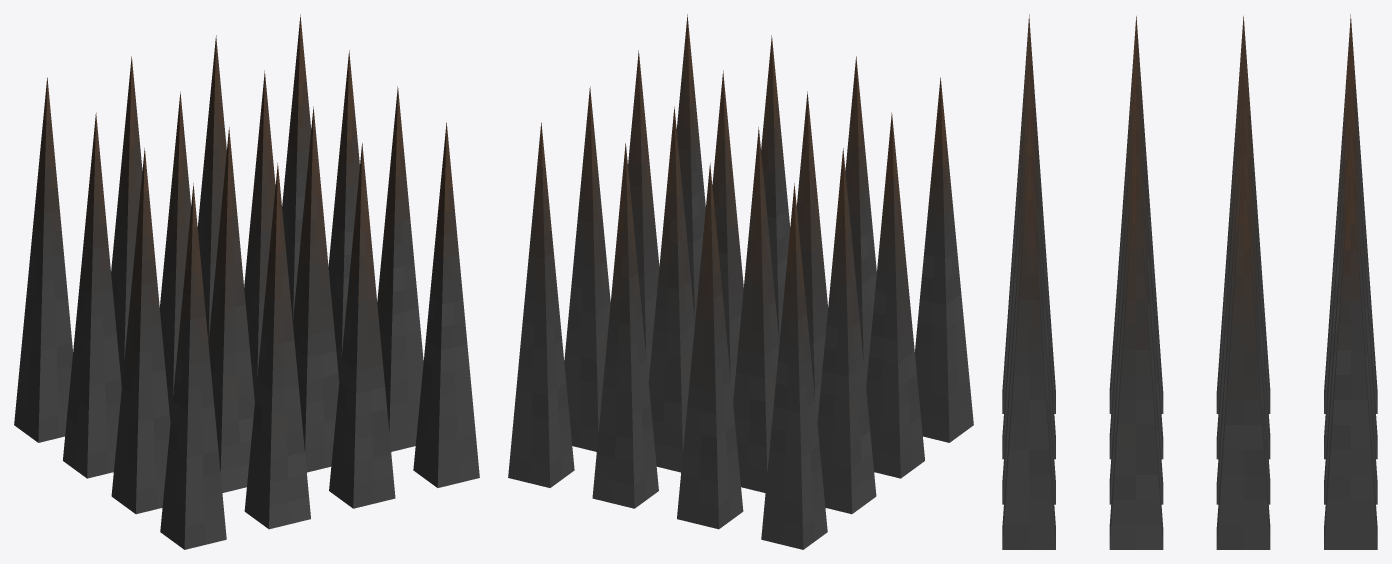
The model's file is spikes.obj.
3 renders of one model, left to right at view 1: azimuth 30°, elevation 25°; view 2: azimuth 150°, elevation 25°; view 3: azimuth 270°, elevation 25°, orthographic. The views are drawn at different scales.
Parts seen in each view (by area): view 1: Cube_Cube.001; view 2: Cube_Cube.001; view 3: Cube_Cube.001.
Boxes of the visible parts, bbox=[...] form: Cube_Cube.001: bbox=[14, 14, 479, 549]; Cube_Cube.001: bbox=[508, 14, 973, 549]; Cube_Cube.001: bbox=[1002, 14, 1377, 549].
Size of the model in its own units: 0.875 by 1 by 0.875.
